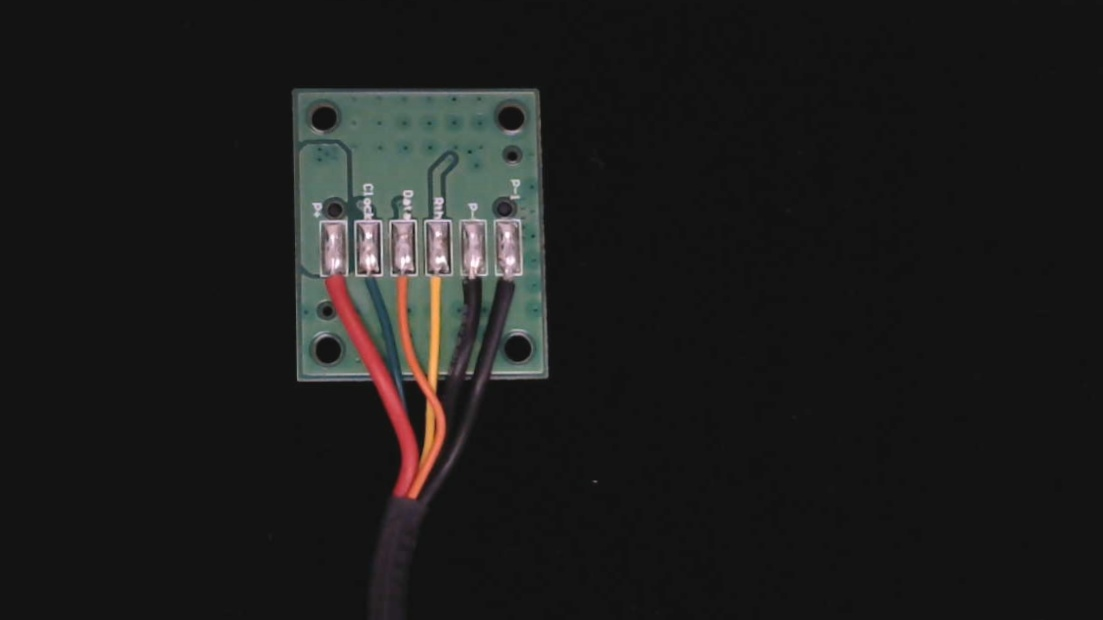Black: (460, 260, 488, 319)
Black1: (496, 260, 523, 312)
Green: (354, 260, 382, 314)
Orange: (390, 260, 416, 315)
Red: (321, 264, 350, 325)
Yellow: (426, 259, 452, 320)
